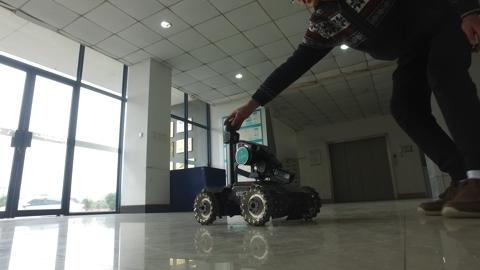chariot: (185, 105, 331, 230)
